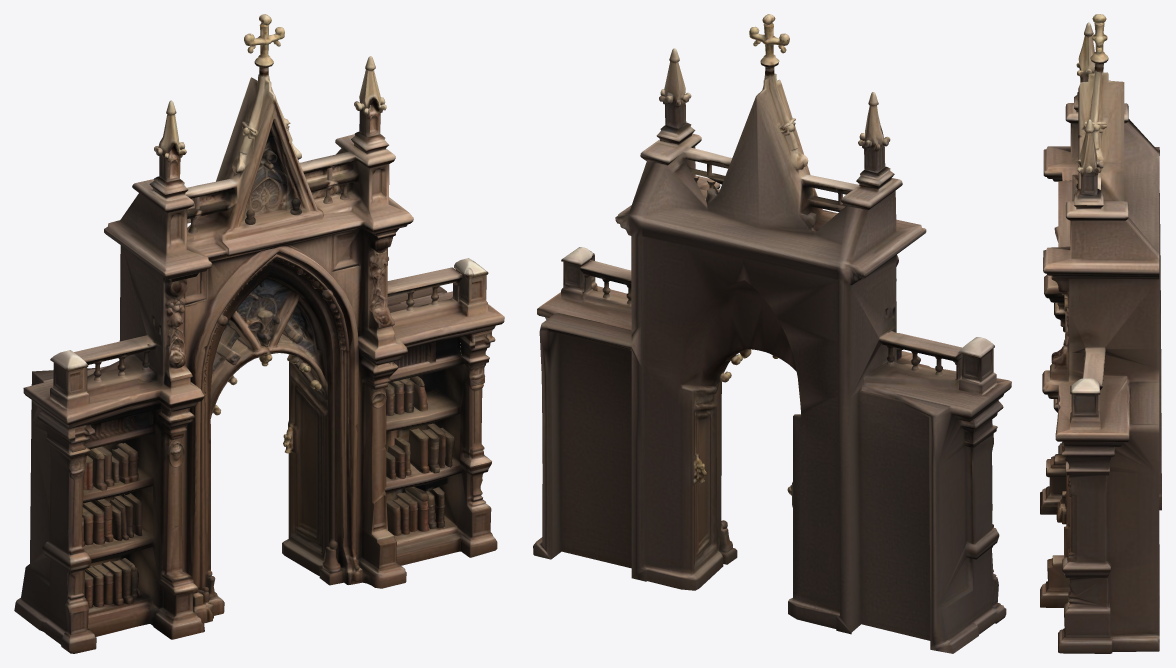
The model's file is library-arch.glb.
The picture shows the model from 3 angles, left to right: view 1: azimuth 30°, elevation 25°; view 2: azimuth 150°, elevation 25°; view 3: azimuth 270°, elevation 25°; orthographic projection. The views are drawn at different scales.
Visible parts, largest first — view 1: tripo_5c6f7fd7_1051_4372_a2b5_911f3f36664f; view 2: tripo_5c6f7fd7_1051_4372_a2b5_911f3f36664f; view 3: tripo_5c6f7fd7_1051_4372_a2b5_911f3f36664f.
Part boxes in pixels (x1,y1,x2,y2): tripo_5c6f7fd7_1051_4372_a2b5_911f3f36664f: (14, 14, 504, 653); tripo_5c6f7fd7_1051_4372_a2b5_911f3f36664f: (533, 14, 1011, 653); tripo_5c6f7fd7_1051_4372_a2b5_911f3f36664f: (1040, 14, 1161, 653).
Size of the model in its own units: 0.8071 by 0.9995 by 0.2036.
Materials: 1 (1 with a texture image).
